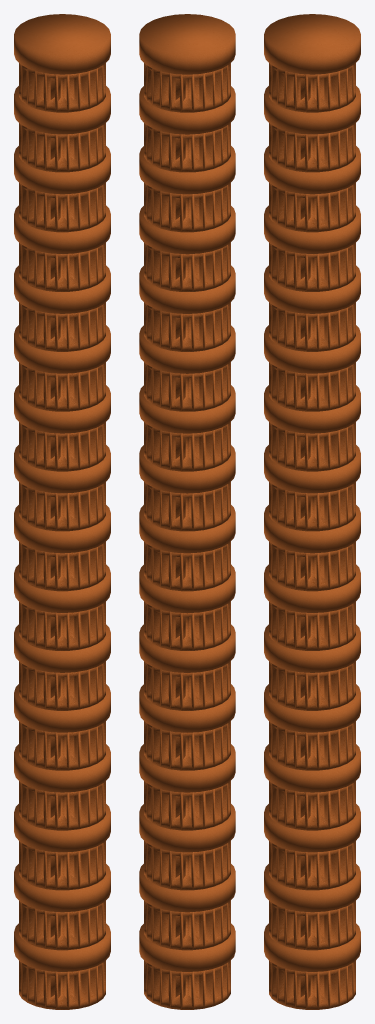
File: Pillar.glb
3 renders of one model, left to right at view 1: azimuth 90°, elevation 25°; view 2: azimuth 150°, elevation 25°; view 3: azimuth 270°, elevation 25°, orthographic.
Parts seen in each view (by area): view 1: Cylinder; view 2: Cylinder; view 3: Cylinder.
Part boxes in pixels (x1,y1,x2,y2): Cylinder: [14, 14, 110, 1009]; Cylinder: [139, 14, 235, 1009]; Cylinder: [264, 14, 360, 1009].
Size of the model in its own units: 4.38 by 48 by 4.4.
Materials: 1 (1 with a texture image).
